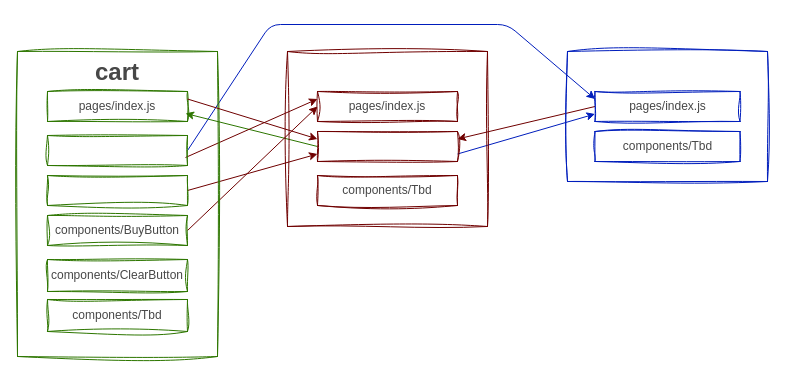
The diagram is 785 pixels wide and 374 high, and some of its shapes have lost their labels. Here are the shapes that lost their labels. From the top down, the box of each, then its label:
(566, 50, 768, 182): product
(46, 134, 188, 166): context/CartContext
(286, 50, 488, 226): shell
(316, 130, 458, 162): components/Nav
(46, 174, 188, 206): components/CartIcon
